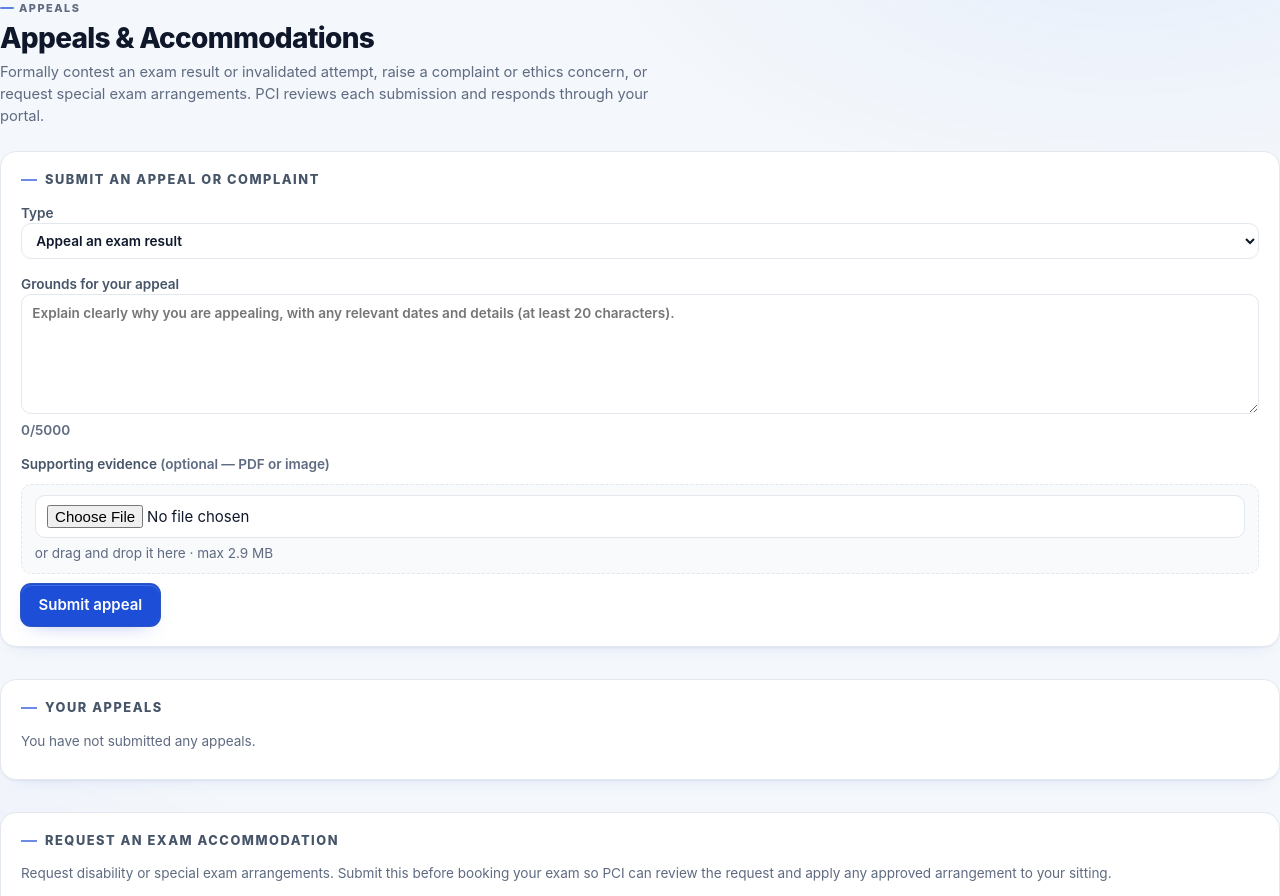
Test: Appeals & Accommodations › submits a minimal appeal body with only the type and trimmed reason
This screenshot has width=1280, height=896.
Type "The score does not reflect my performance." into the text box labelled "Grounds for your appeal 0/5000" at (640, 354), box [21, 294, 1259, 414]
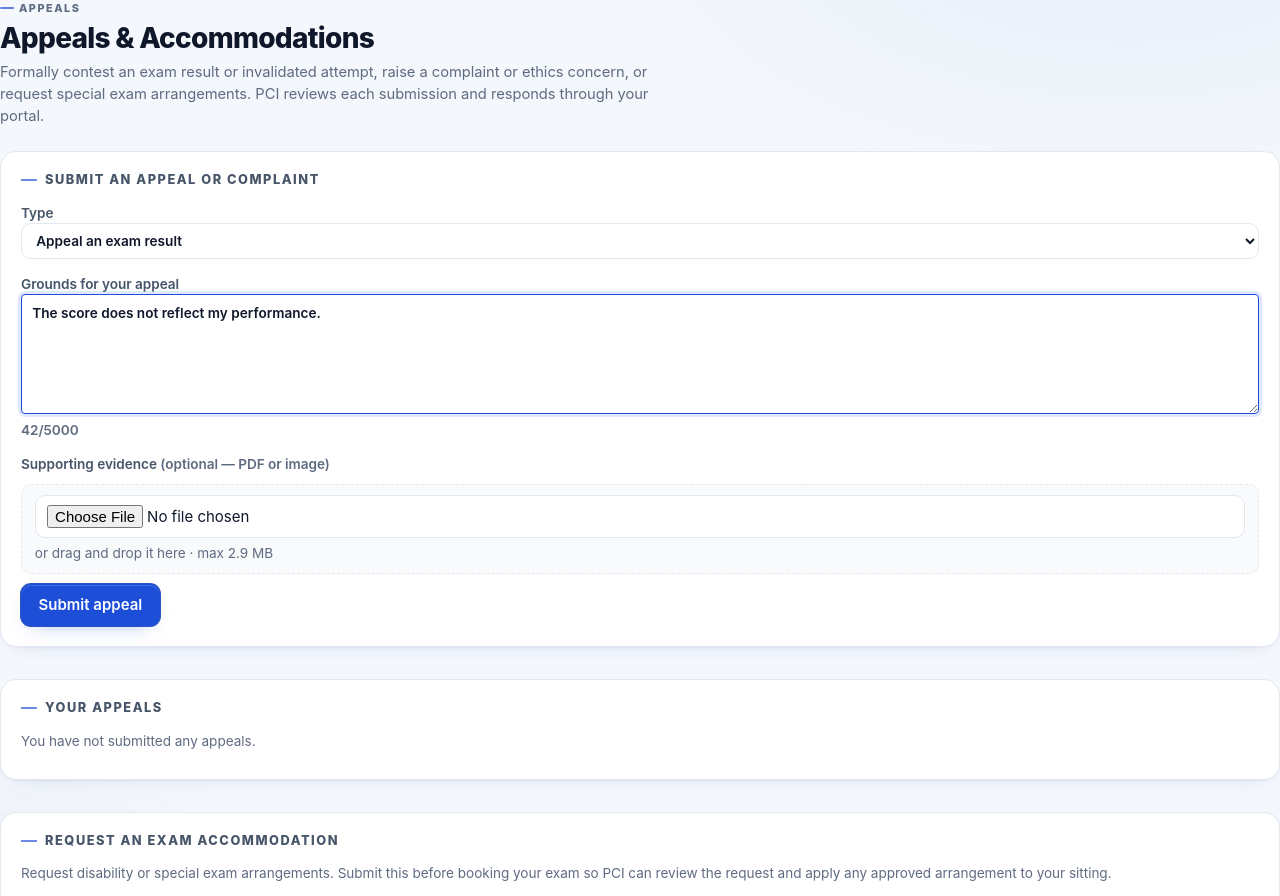
Click the button "Submit appeal" at (90, 605), box [21, 584, 160, 626]
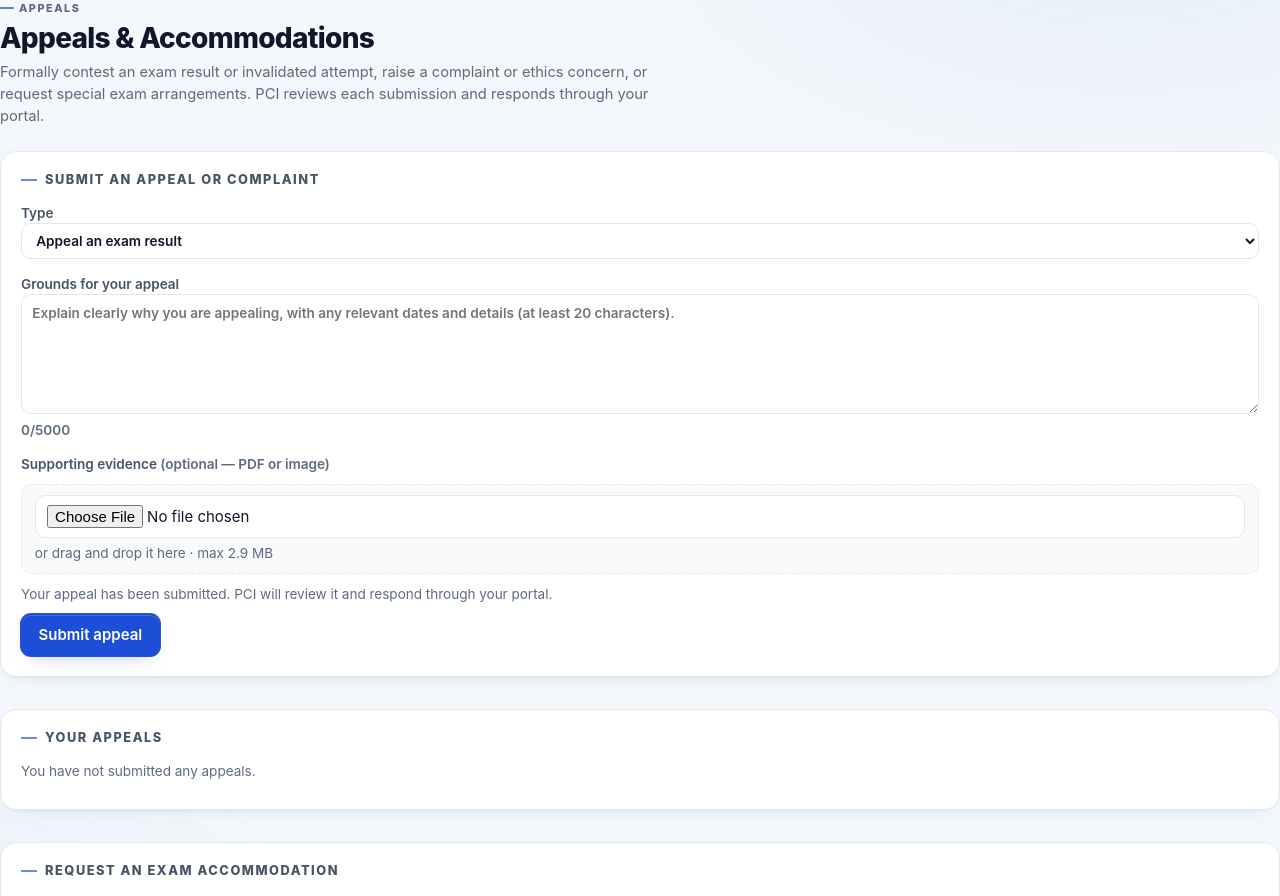
Expected: the text "Your appeal has been submitted" is shown, [21, 586, 552, 602]
